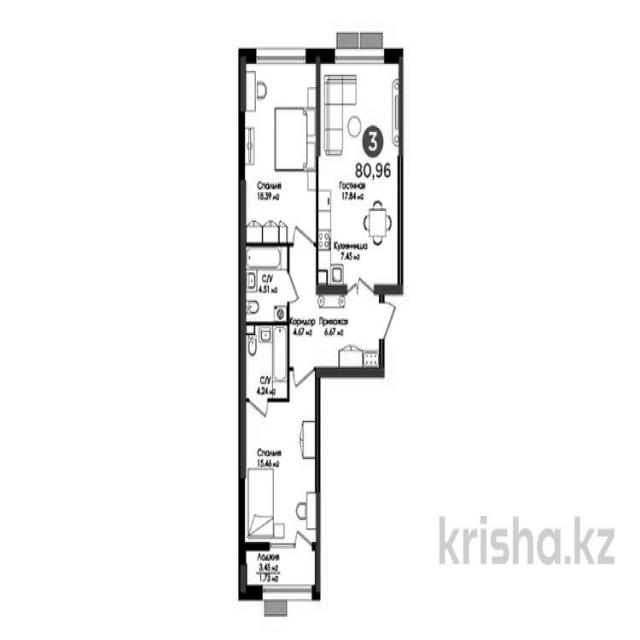balcony: (241, 542, 320, 600)
bathroom: (243, 244, 291, 326), (242, 324, 288, 406)
hallway: (289, 244, 385, 375)
living_room: (240, 51, 320, 247), (241, 367, 320, 543)
studio: (318, 49, 402, 290)
